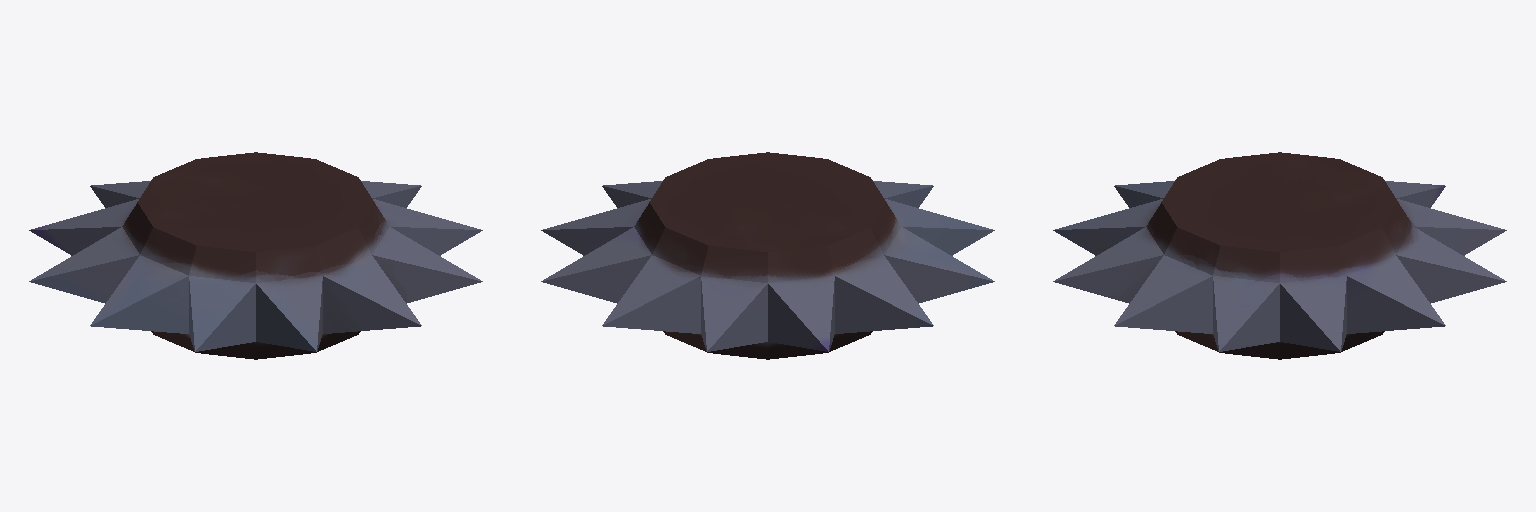
The picture shows the model from 3 angles: view 1: azimuth 30°, elevation 25°; view 2: azimuth 150°, elevation 25°; view 3: azimuth 270°, elevation 25°; orthographic projection.
Parts seen in each view (by area): view 1: Cylinder; view 2: Cylinder; view 3: Cylinder.
Boxes of the visible parts, <box> form: Cylinder: <box>29,152,482,359</box>; Cylinder: <box>541,152,994,359</box>; Cylinder: <box>1053,152,1506,359</box>.
Bounding box in the file's own units: 3.84 × 1 × 3.84.
1 materials, 1 textured.